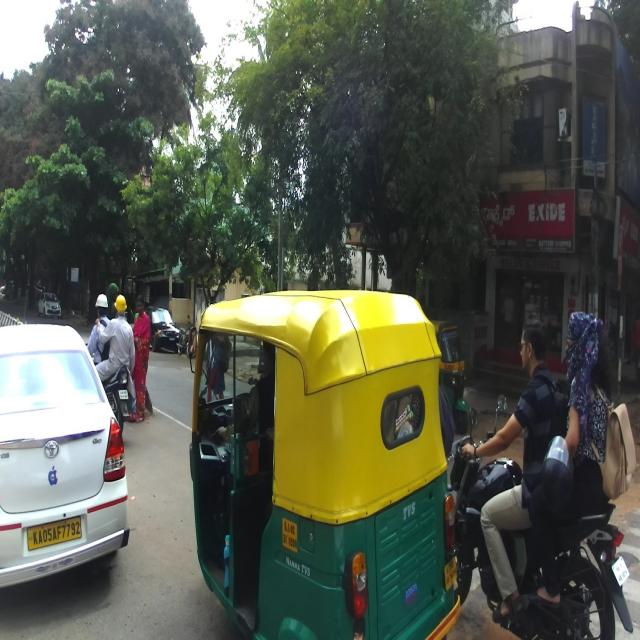Car_Toyota: (0, 324, 128, 592)
autorickshaw: (187, 290, 465, 638)
motorcycle_Hero: (86, 340, 130, 433)
motorcycle_Yamaha: (447, 392, 633, 639)
